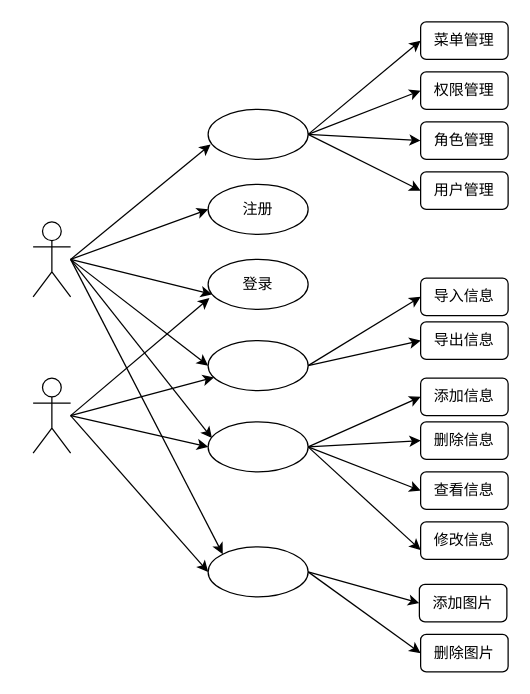
The diagram is 530 pixels wide and 694 high, and some of its shapes have lost their labels. The centre of each missing label's shape, as x and y in pixels:
信息管理: (257,446)
图片管理: (257,571)
导出管理: (257,365)
普通用户: (51,415)
管理员: (51,259)
账户管理: (257,133)
